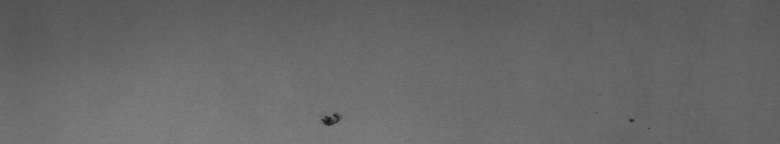fi: (316, 104, 344, 134)
